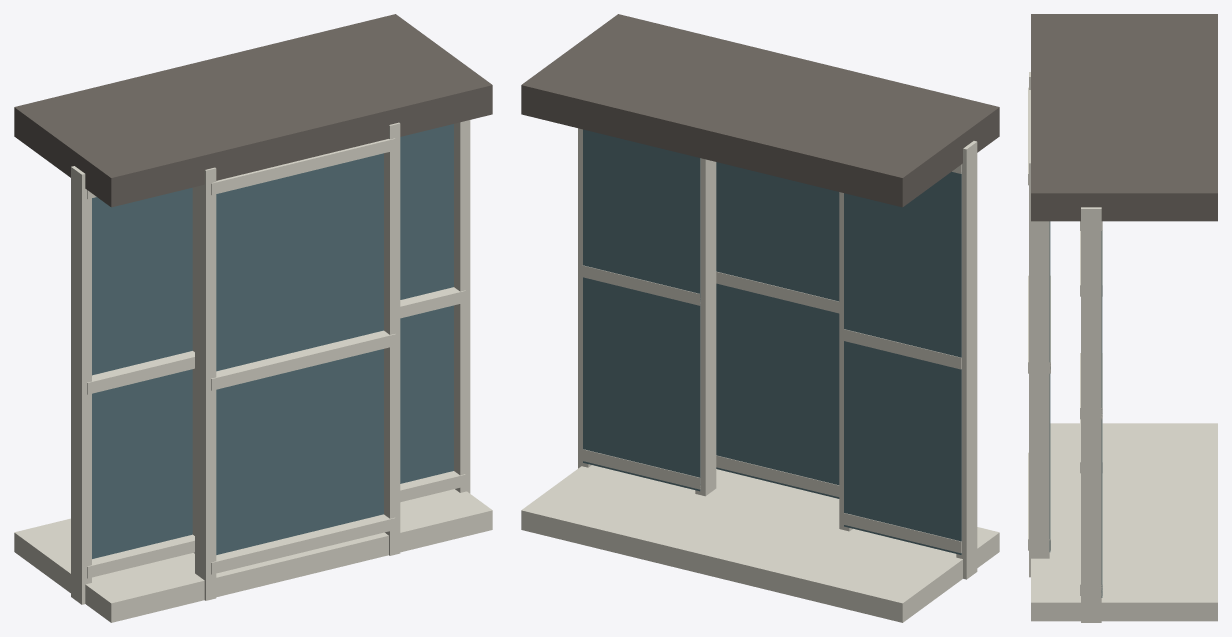
3 views of the same model, side by side, from view 1: azimuth 30°, elevation 25°; view 2: azimuth 150°, elevation 25°; view 3: azimuth 270°, elevation 25° (orthographic). The views are drawn at different scales.
Parts seen in each view (by area): view 1: QH-A0040_V02_geometry; view 2: QH-A0040_V02_geometry; view 3: QH-A0040_V02_geometry.
Part boxes in pixels (x1,y1,x2,y2): QH-A0040_V02_geometry: (14,14,492,622); QH-A0040_V02_geometry: (521,14,999,622); QH-A0040_V02_geometry: (1028,14,1217,622).
Bounding box in the file's own units: 2.08 × 2.28 × 0.915.
